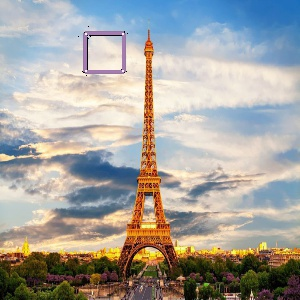square: (83, 30, 127, 75)
